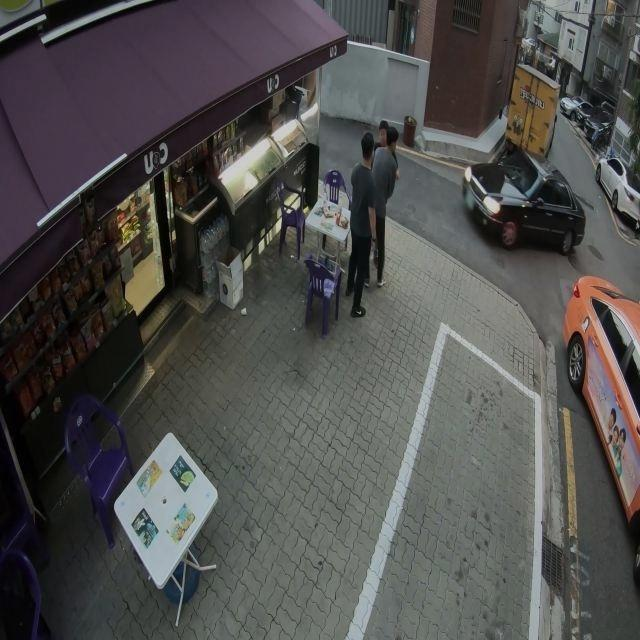fight: (364, 117, 403, 291)
non-fight: (342, 130, 380, 316)
